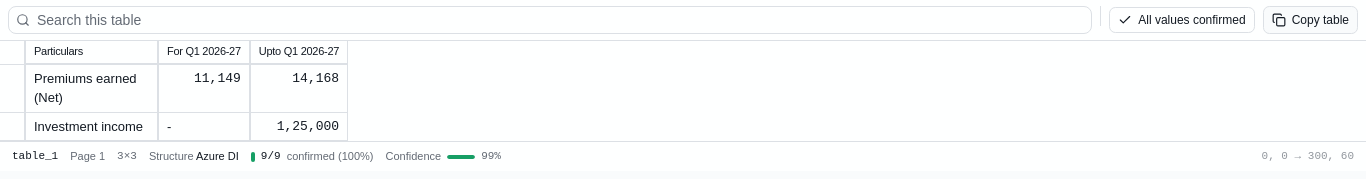
TableViewer › search › highlights matches and reports the count
Type "Q1" into the field labelled "Search this table" at (550, 20), box [8,6,1092,34]
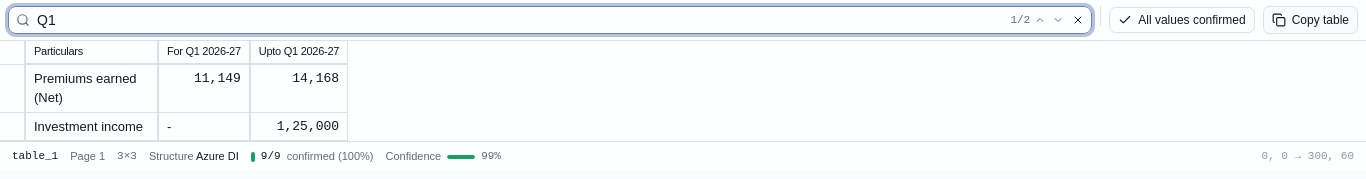
Expected: the text "1/2" is shown, [1010,12,1030,28]
